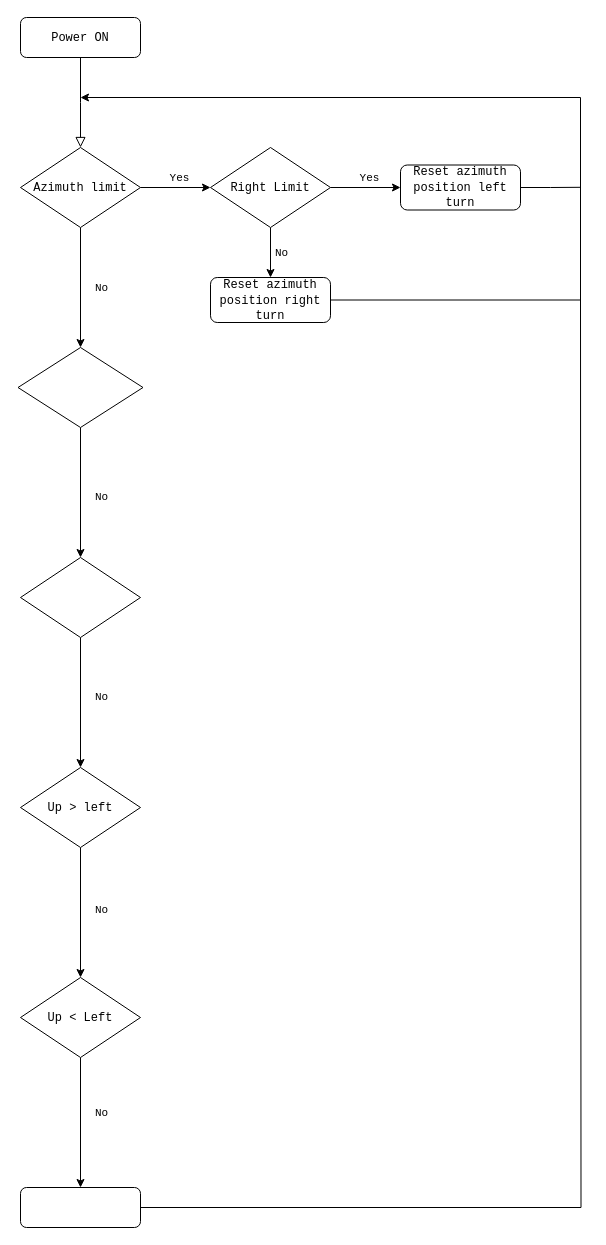
This 606x1245 diagram has some shape labels left out. Each missing label, with the centre of its shape:
"Left < Right" belongs at (80,597).
"Left > Right" belongs at (80,387).
"Update Sensor values" belongs at (80,1207).
